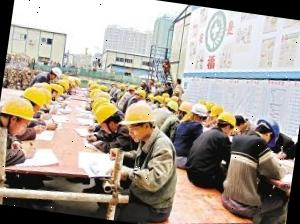helmet: (122, 100, 158, 130), (0, 95, 35, 122), (254, 116, 281, 146), (93, 102, 120, 125), (20, 86, 48, 108), (216, 108, 238, 126), (190, 102, 210, 119), (179, 98, 193, 112), (50, 65, 63, 78), (164, 100, 178, 112)
